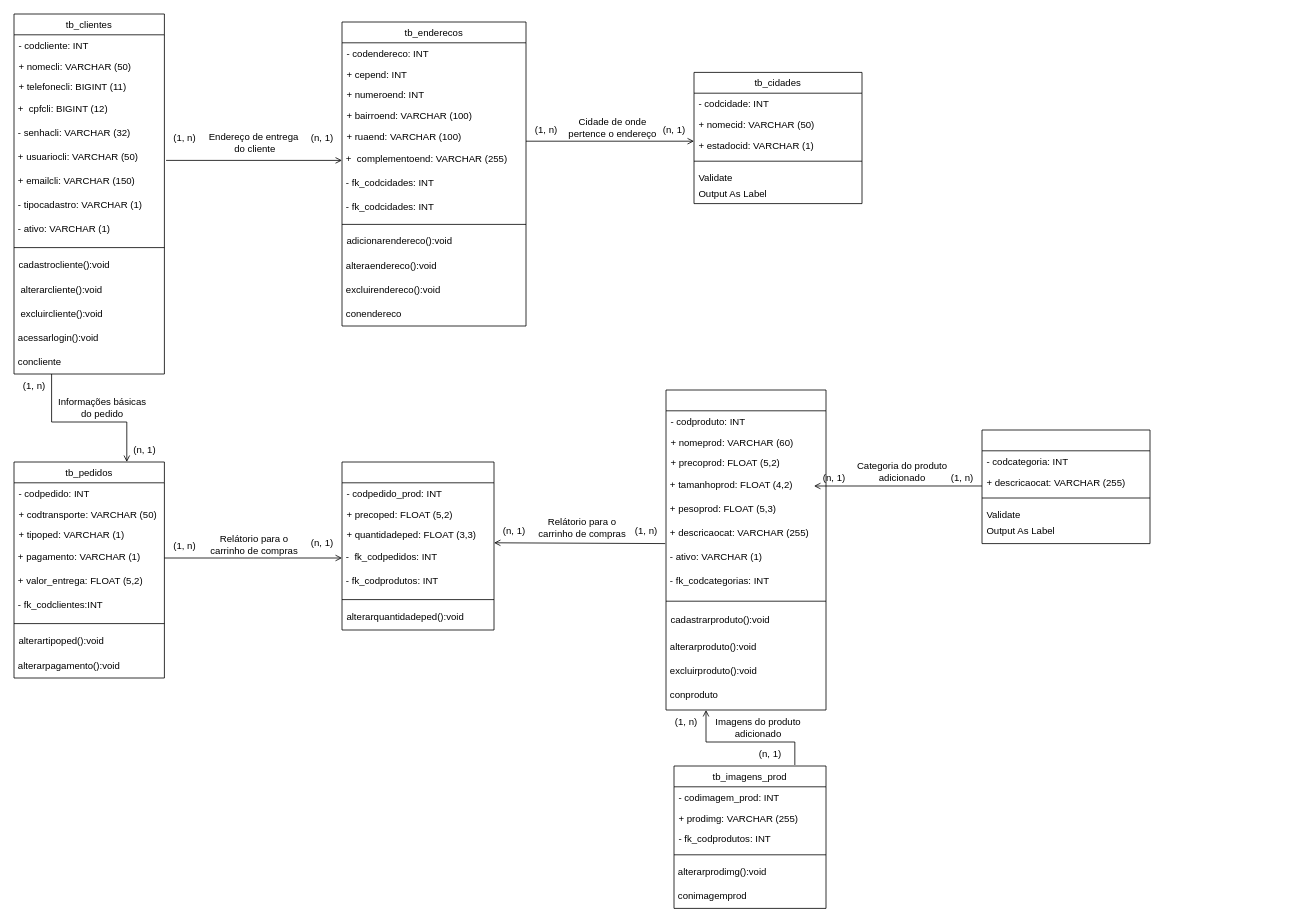
Image size: 1310x922. Some labels were removed from this diagram. Here are the shapes that lost their labels. From the top down, the box of each, then its label:
(981, 429, 1150, 544): tb_categorias
(341, 461, 494, 630): tb_pedidos_produtos
(665, 389, 826, 710): tb_produtos
